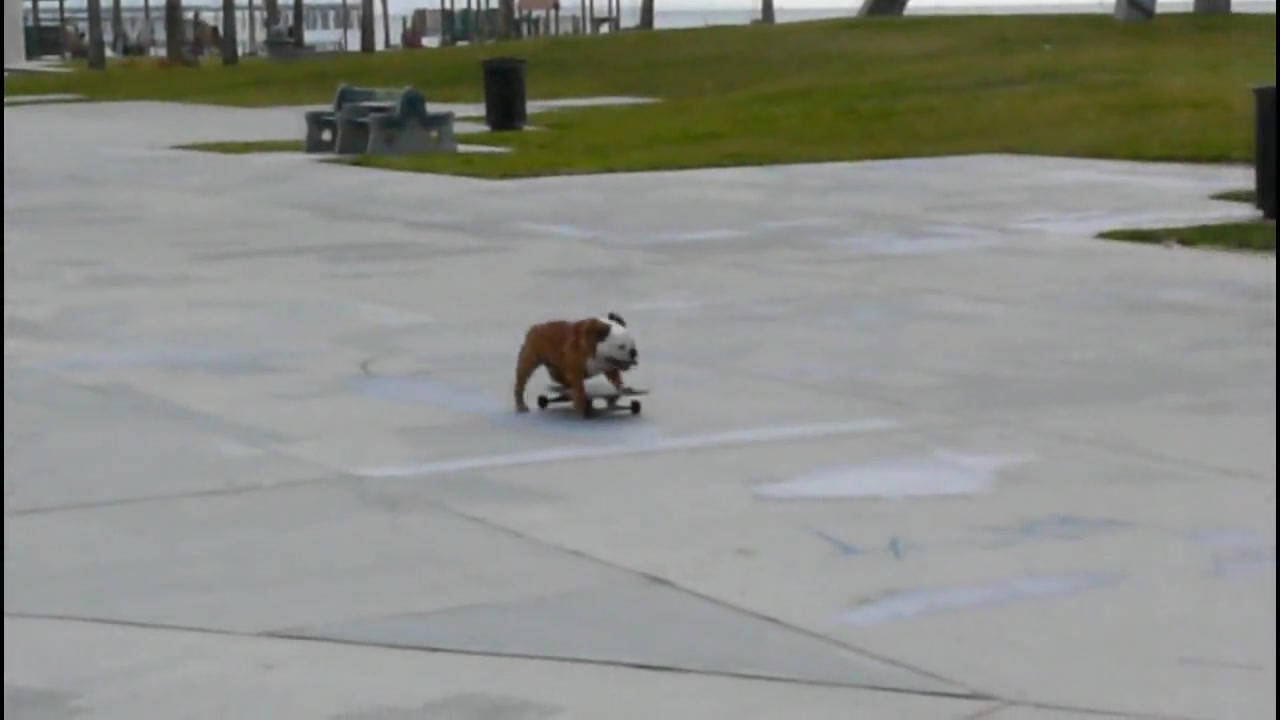dog: (511, 312, 645, 421)
